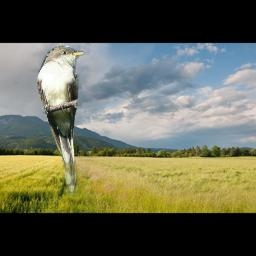Cuckoo: (37, 45, 86, 196)
